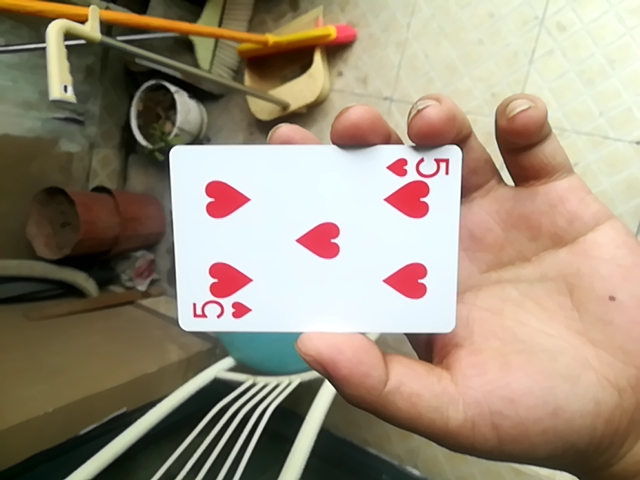hx 5: (163, 139, 462, 331)
